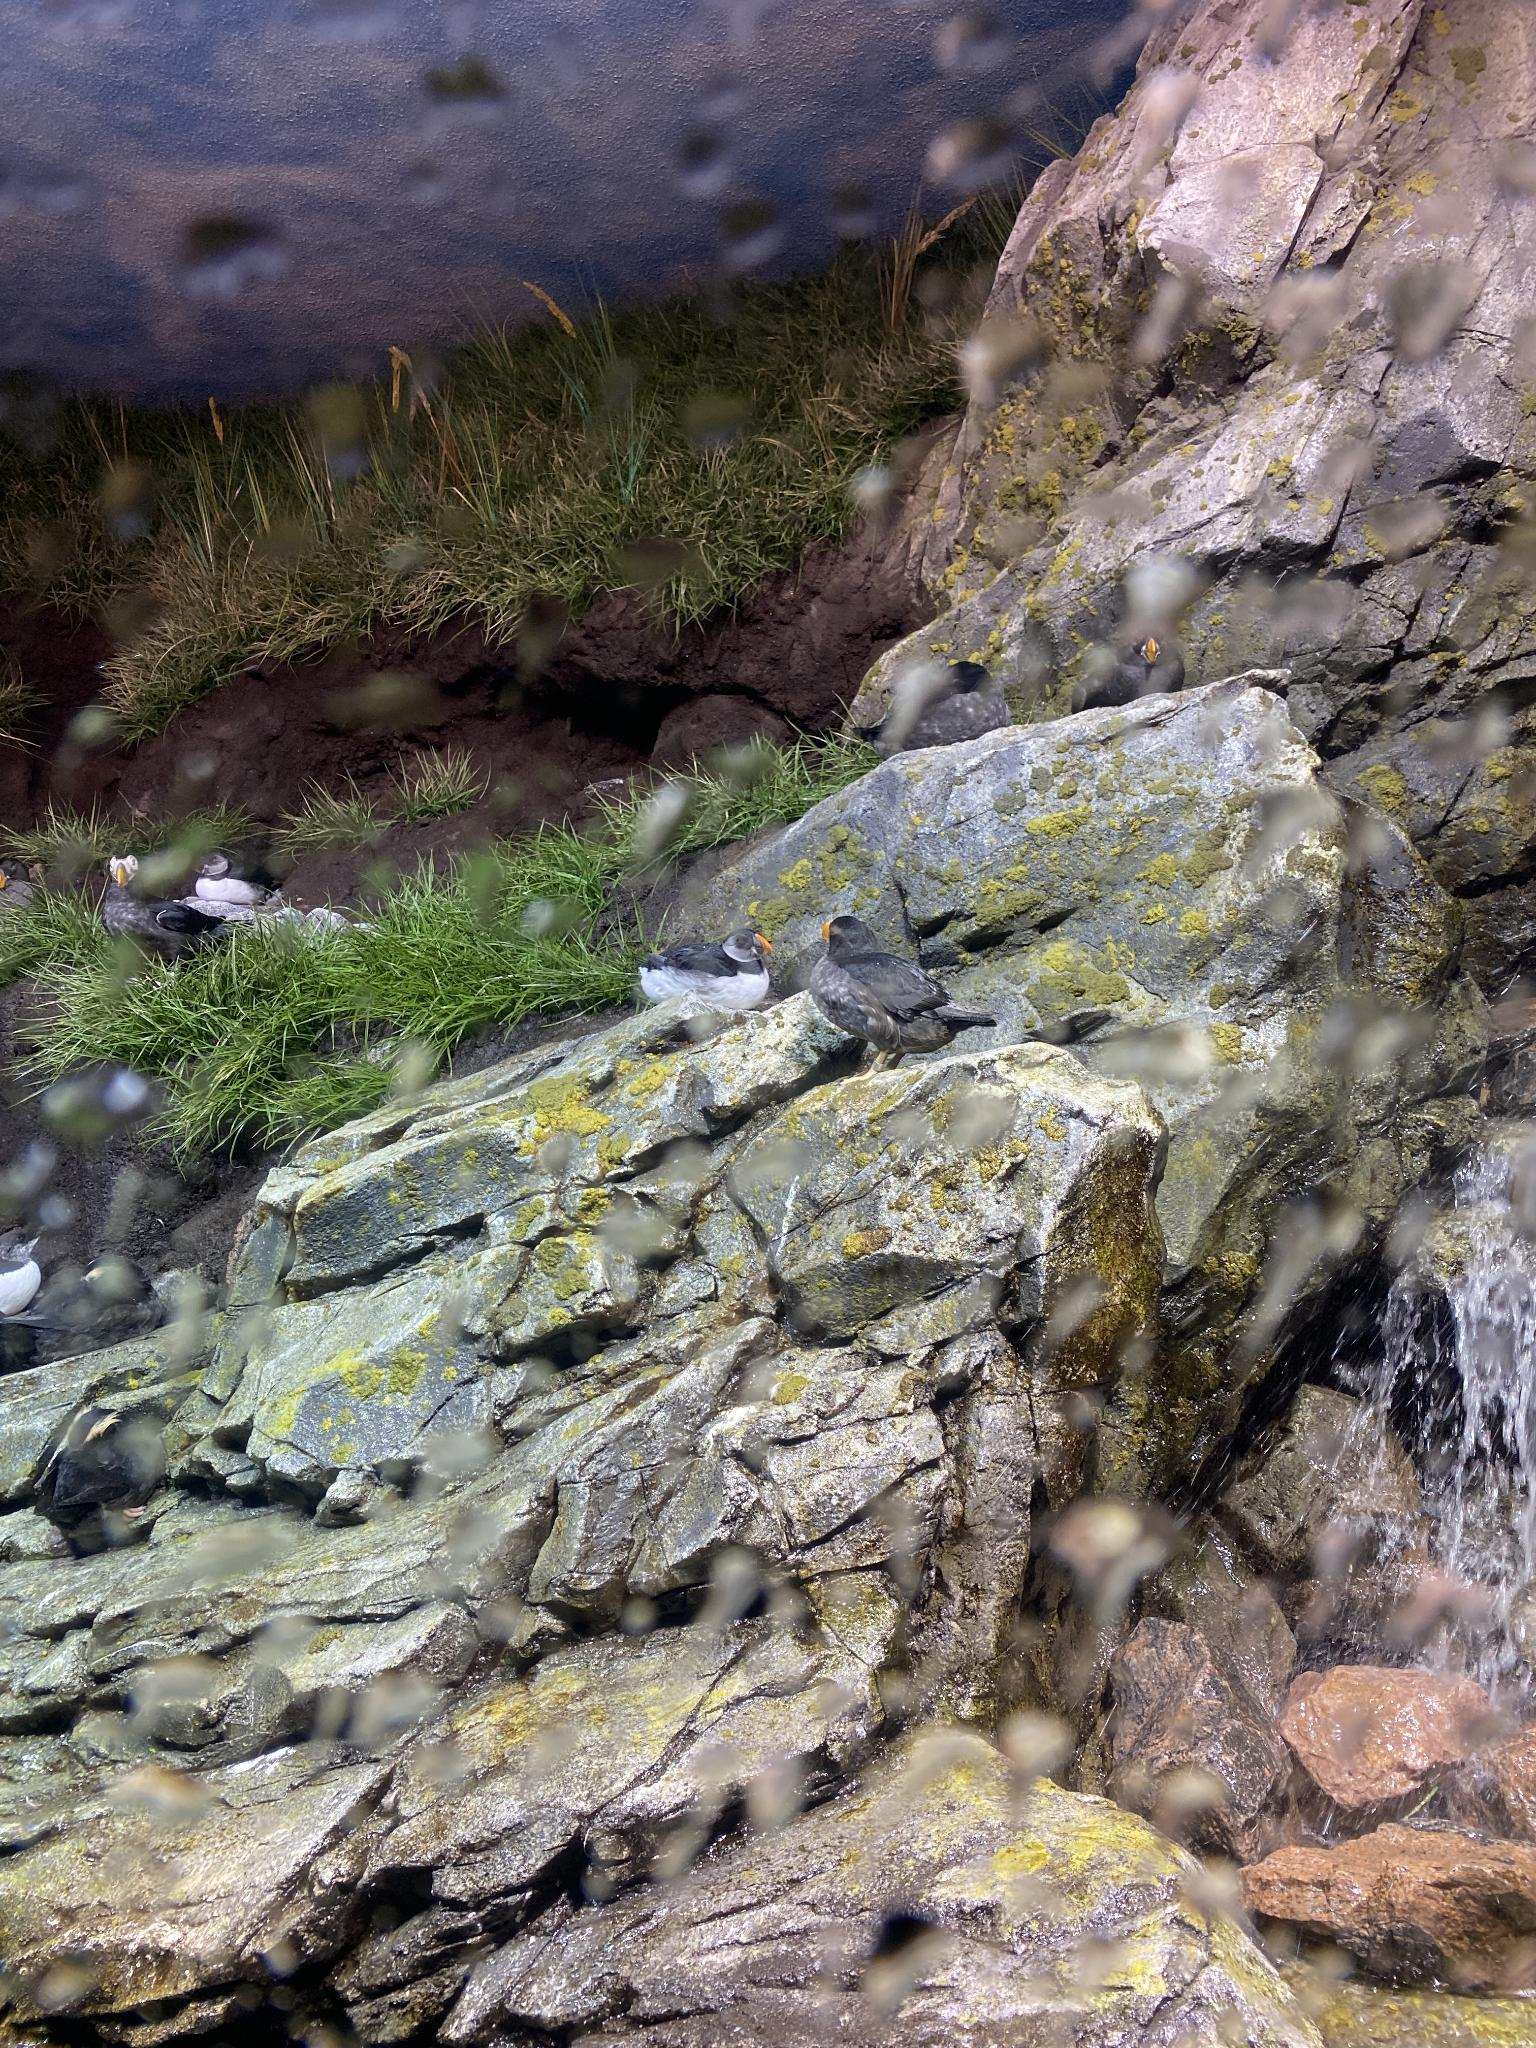puffin: (812, 914, 994, 1068), (37, 1409, 166, 1519), (857, 661, 1008, 751), (102, 851, 232, 951), (637, 927, 771, 1006), (40, 1251, 144, 1338), (1071, 627, 1183, 706), (0, 1227, 42, 1316), (195, 851, 263, 905), (0, 856, 44, 918)
